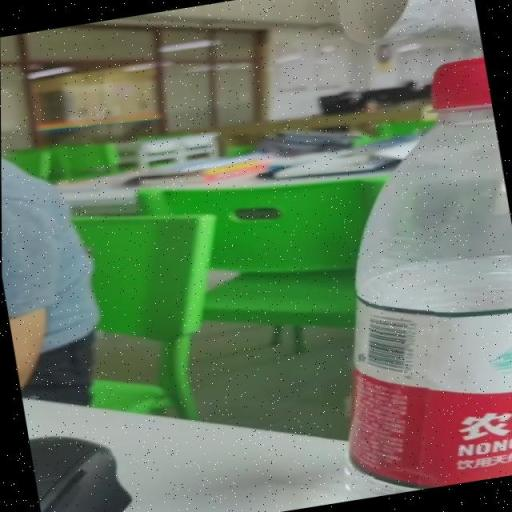plastic: (343, 57, 512, 500)
